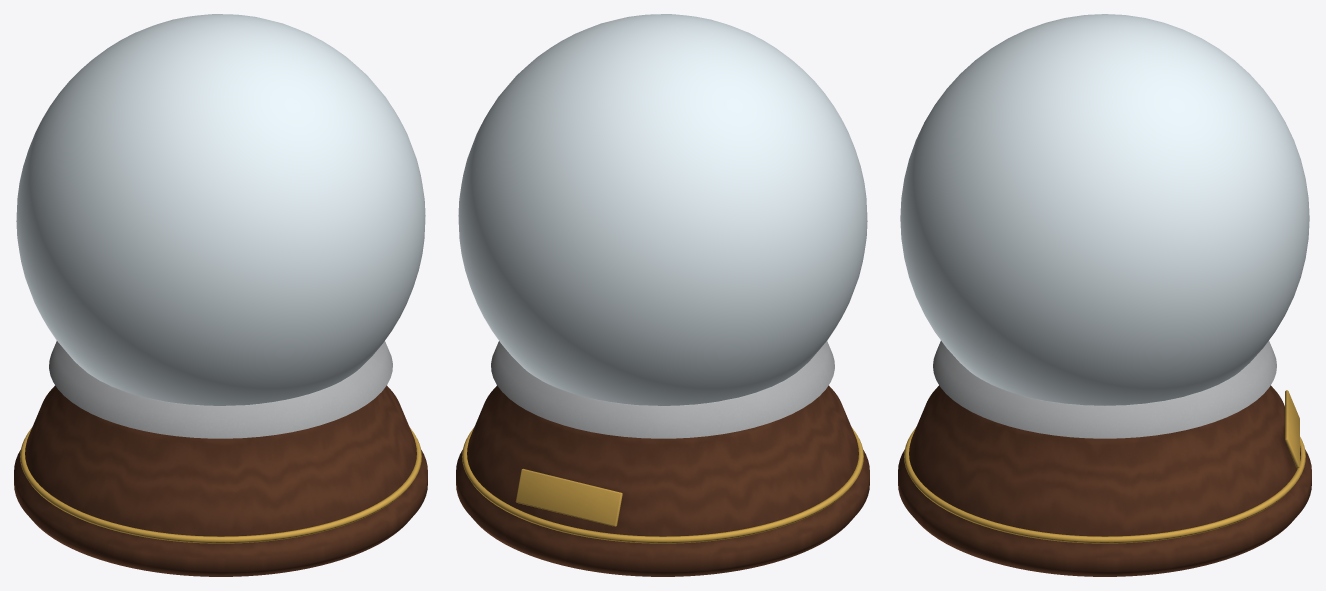
Rendered from piece_snowglobe.fbx.
3 renders of one model, left to right at view 1: azimuth 30°, elevation 25°; view 2: azimuth 150°, elevation 25°; view 3: azimuth 270°, elevation 25°, orthographic.
Parts seen in each view (by area): view 1: piece_snowglobe; view 2: piece_snowglobe; view 3: piece_snowglobe.
Boxes of the visible parts, x1,y1,x2,y2 form: piece_snowglobe: (14, 14, 427, 576); piece_snowglobe: (456, 14, 869, 576); piece_snowglobe: (898, 14, 1311, 576).
Size of the model in its own units: 0.178 by 0.218 by 0.178.
